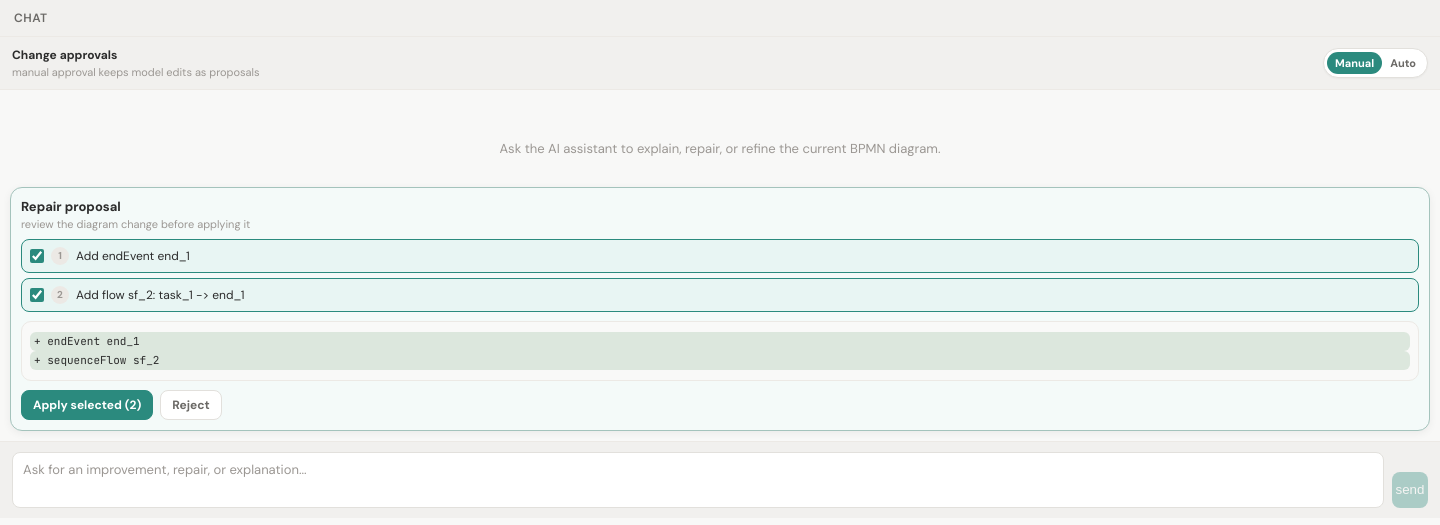
subset acceptance › recomputes the preview for the selected subset
Click the checkbox labelled "2 Add flow sf_2: task_1 -> end_1" at (37, 295), box [30, 288, 44, 302]
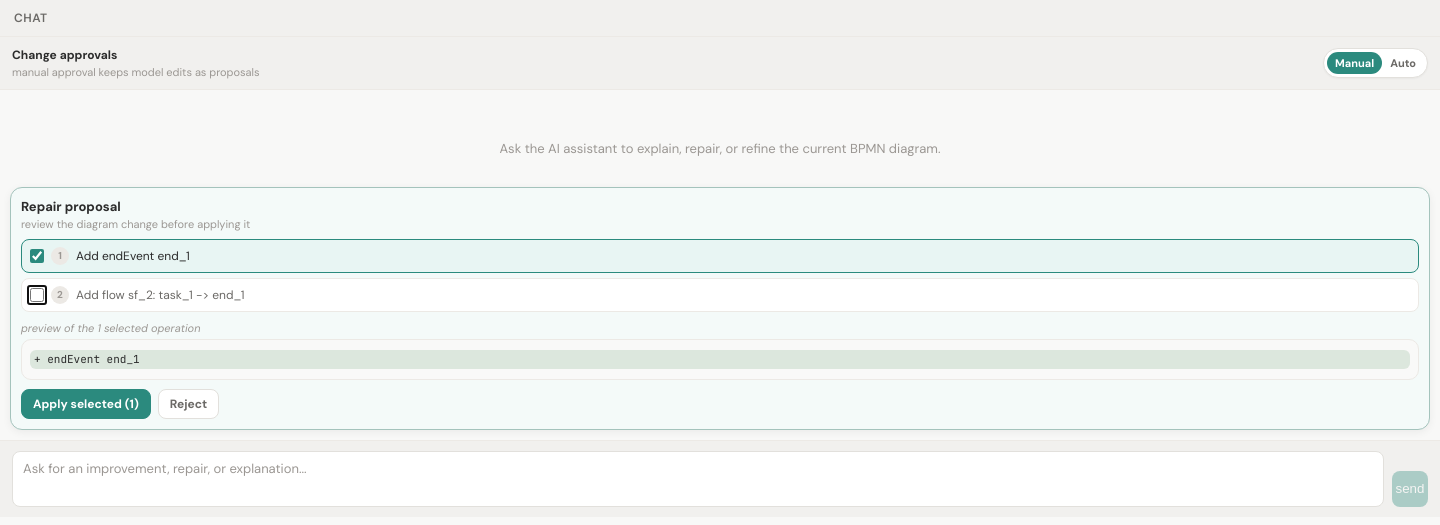
Expected: the text "preview of the 1 selected operation" is shown, [21, 321, 200, 335]
Expected: the text "sequenceFlow sf_2" is gone
